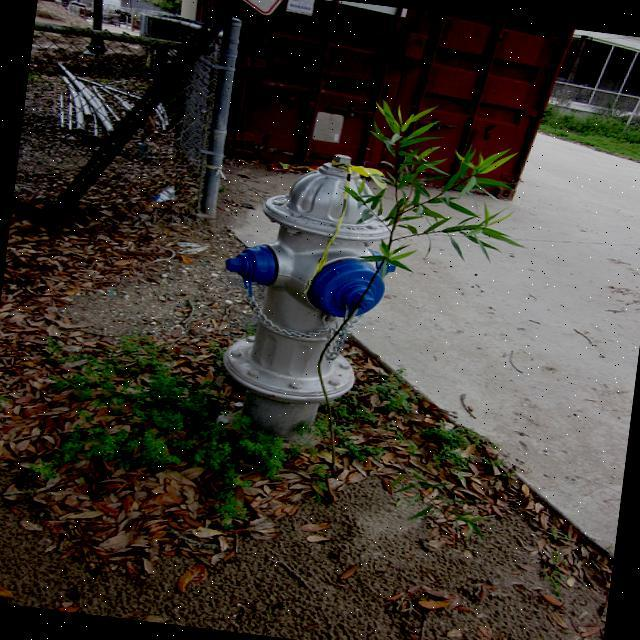fire_hydrant: (204, 143, 403, 460)
